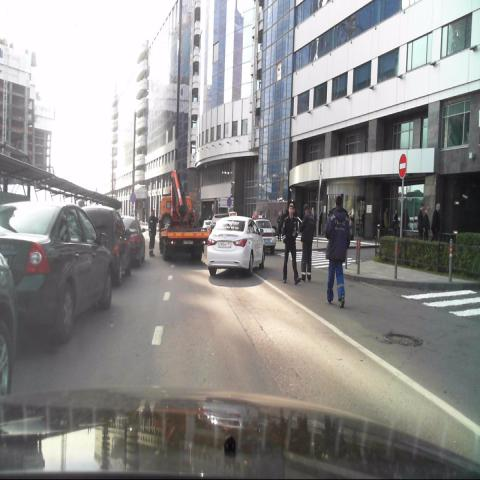3_1: (398, 151, 408, 180)
